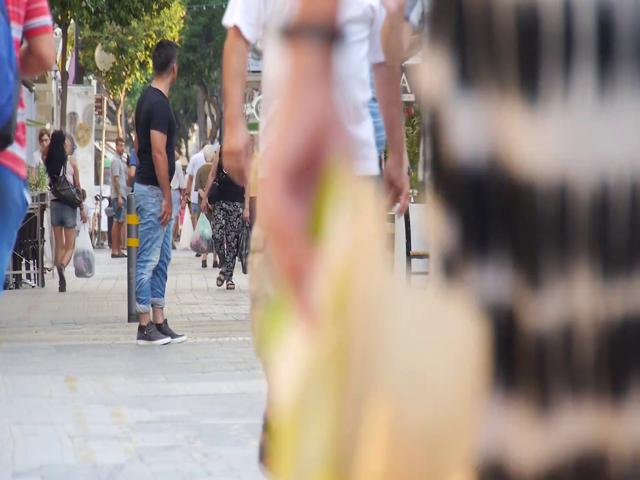shoe: (136, 322, 171, 345)
